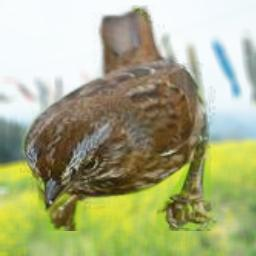Sparrow: (20, 5, 221, 231)
